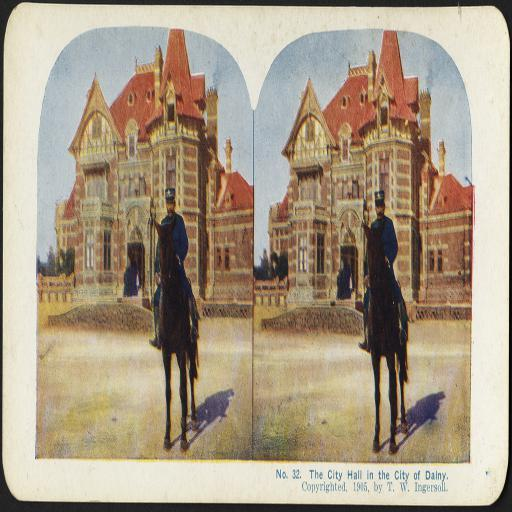horse: (362, 220, 410, 452), (153, 217, 199, 449)
